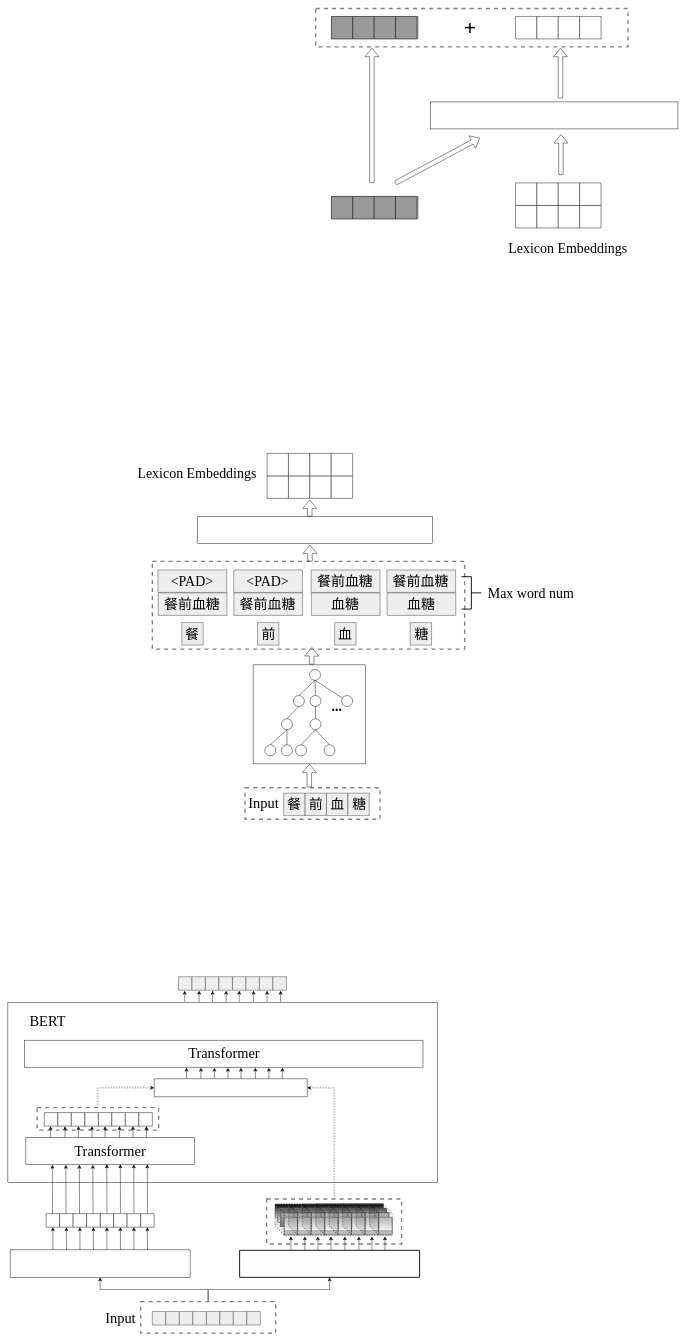
Image size: 686x1341. Some labels were removed from this diagram. Here are the shapes that lost their labels. From the top down, the centre of each, then its label:
point (554, 115): Bilinear Attention
point (315, 529): BERT-Chinese-base
point (230, 1087): Lexicon Adapter
point (100, 1263): Input embedder
point (329, 1264): Lexicon matcher
